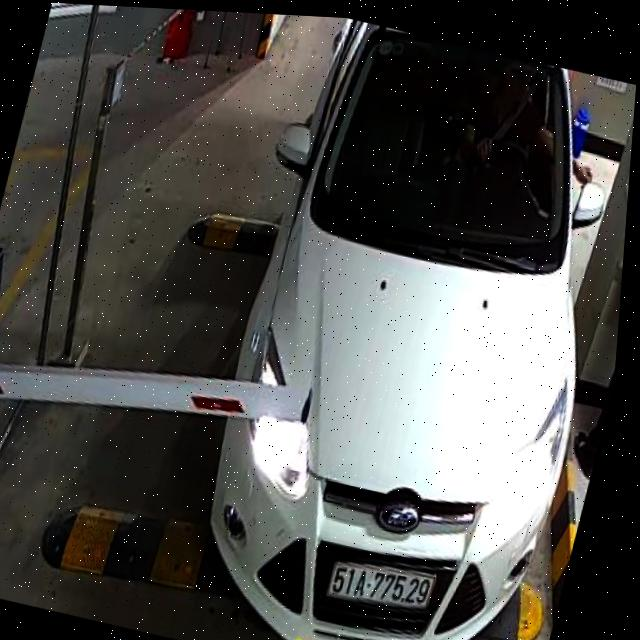car: (154, 10, 640, 640)
plate: (317, 548, 445, 619)
